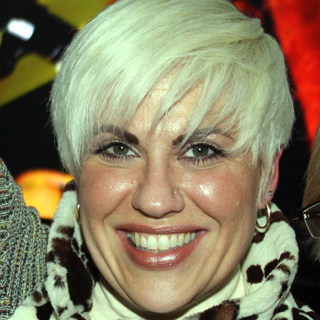eye: (177, 138, 228, 165), (94, 136, 141, 163)
